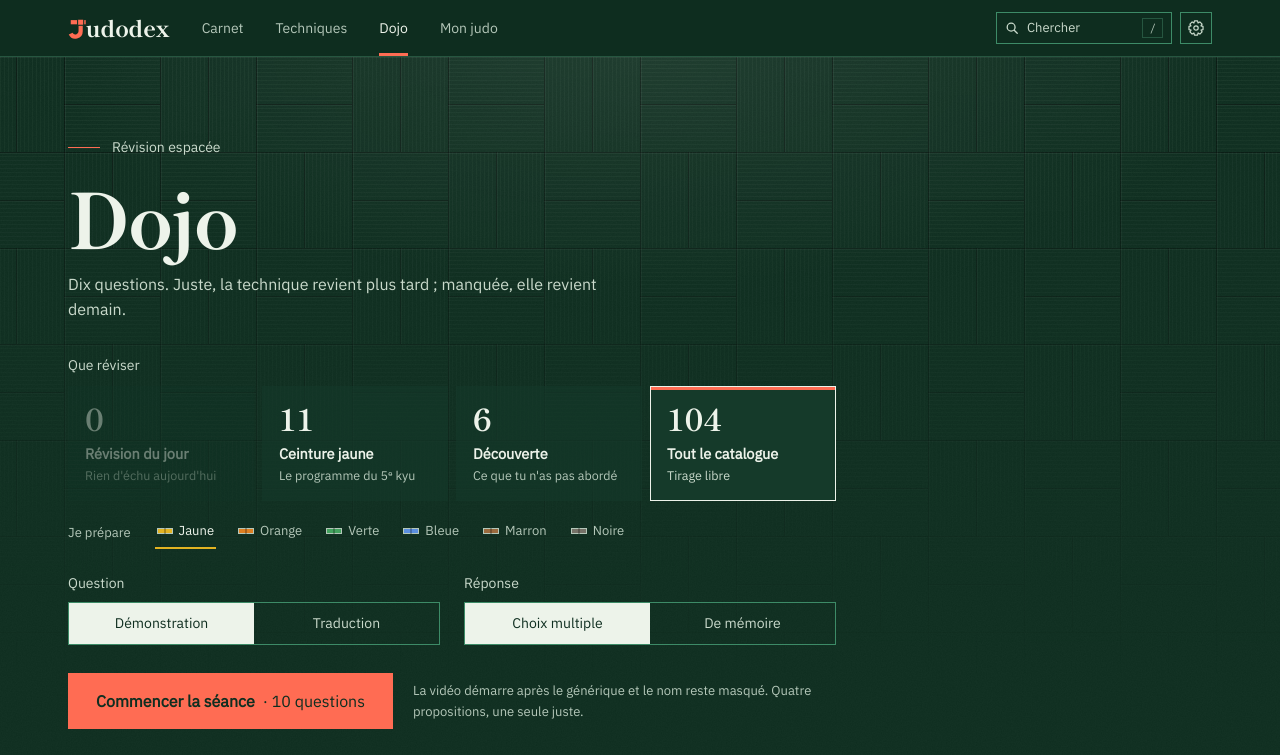
Scenario: planche de la ceinture noire › laisse revenir sur une autre ceinture après avoir choisi la noire
This screenshot has width=1280, height=755.
Click the button "11 Ceinture jaune Le programme du 5ᵉ kyu" at (355, 444), box [262,386,448,501]
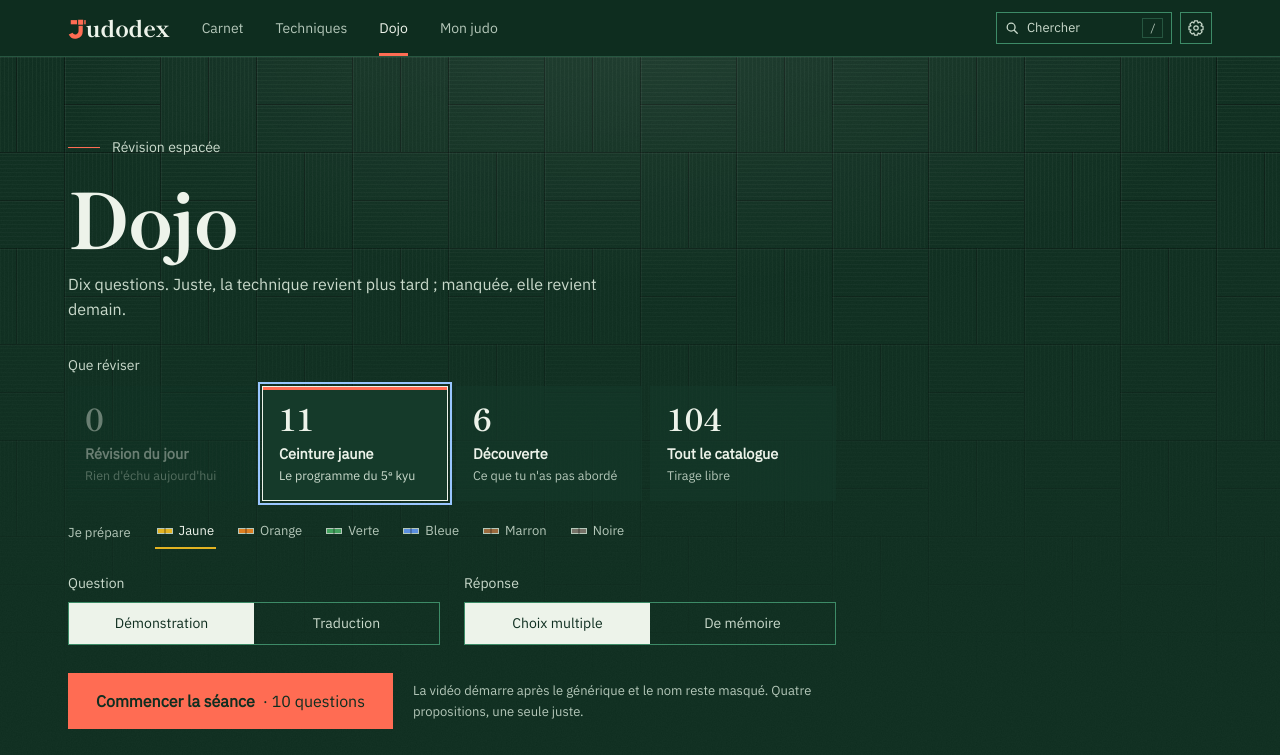
Click the button "Noire" at (598, 533), box [569,517,626,549]
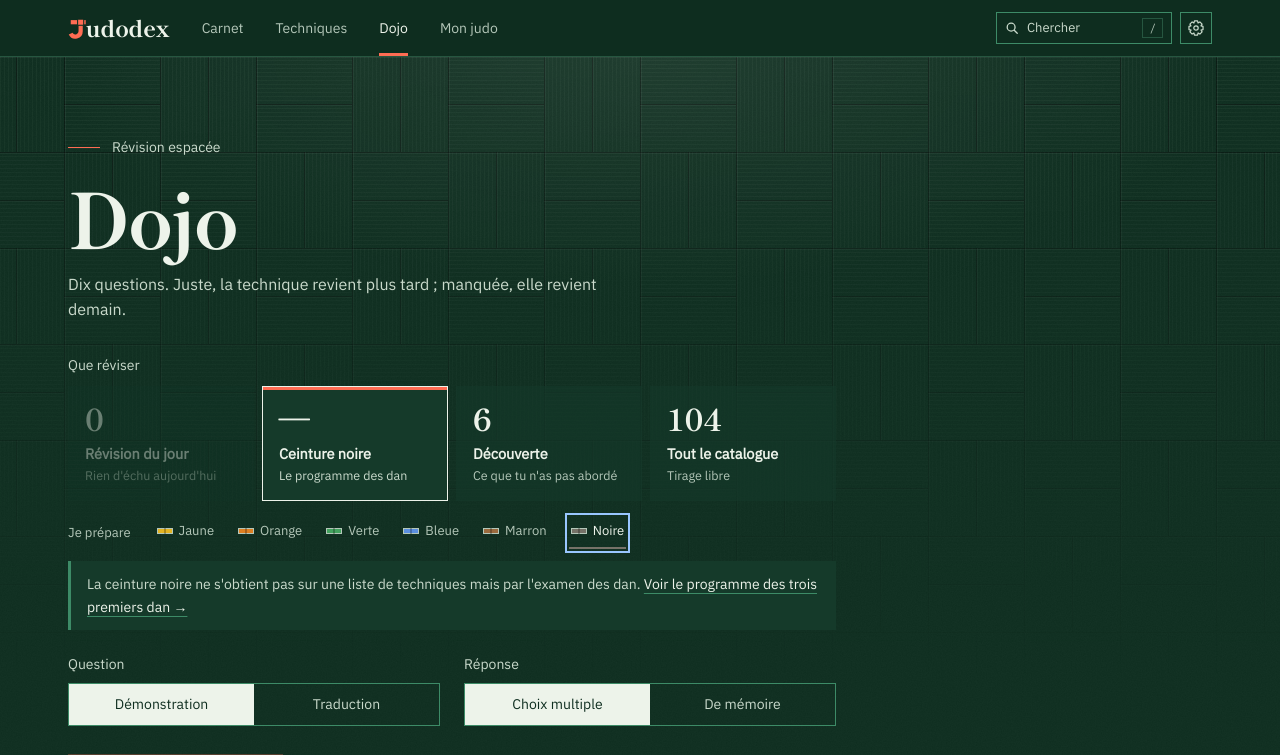
Check: the link "Voir le programme des trois premiers dan →" is shown, box [87,575,817,616]
Click the button "Orange" at (270, 533), box [236,517,304,549]
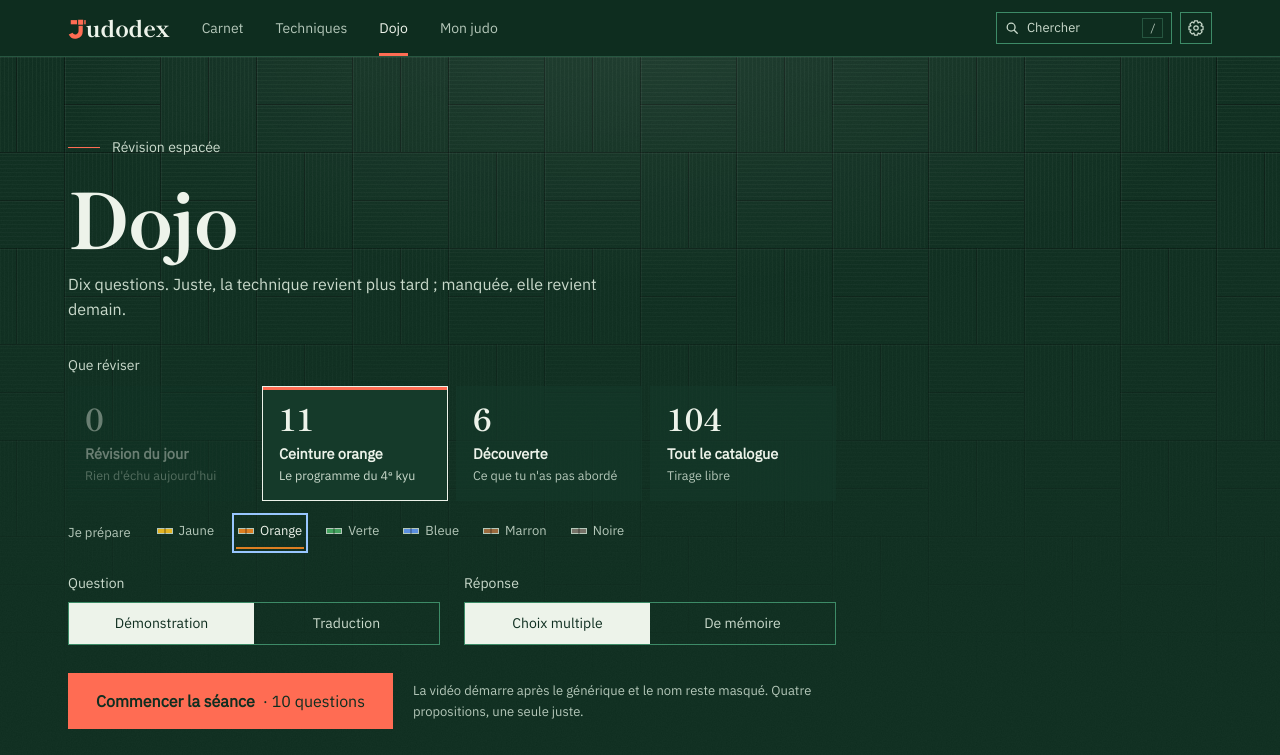
Check: the button "Commencer la séance · 10 questions" is enabled, box [68,673,393,729]
